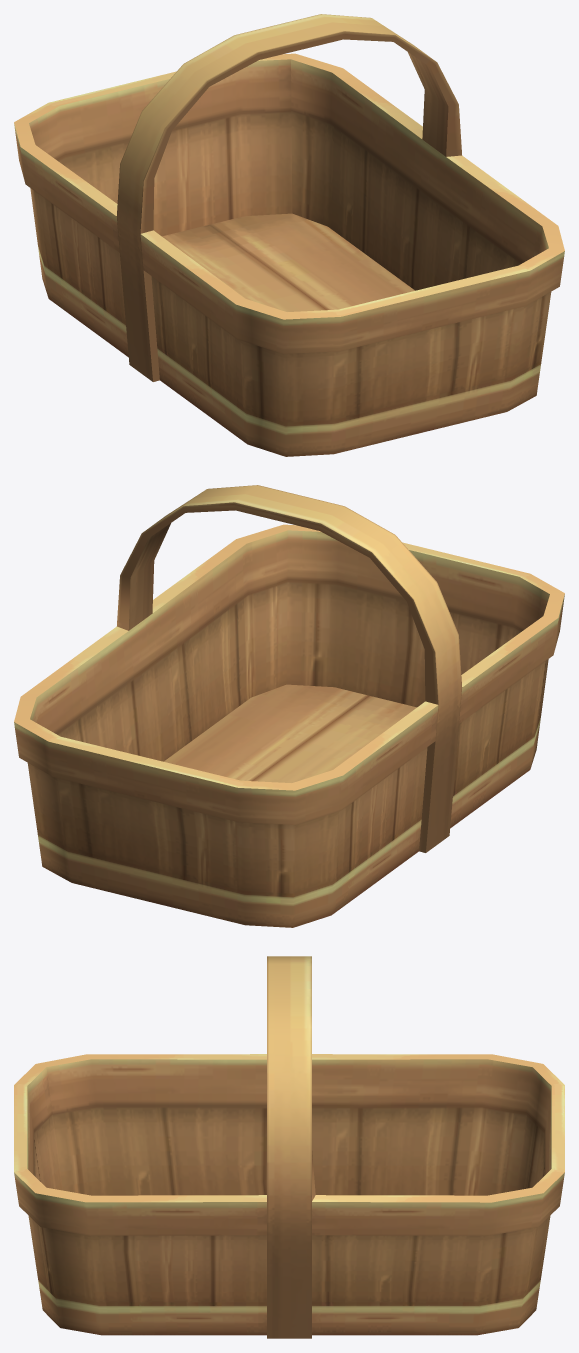
The model's file is Basket.fbx.
The picture shows the model from 3 angles, top to bottom: view 1: azimuth 30°, elevation 25°; view 2: azimuth 150°, elevation 25°; view 3: azimuth 270°, elevation 25°; orthographic projection. The views are drawn at different scales.
Parts seen in each view (by area): view 1: Cardboard_Basket; view 2: Cardboard_Basket; view 3: Cardboard_Basket.
Part boxes in pixels (<box>): Cardboard_Basket: <box>14,14,564,456</box>; Cardboard_Basket: <box>14,485,564,927</box>; Cardboard_Basket: <box>14,956,564,1338</box>.
Size of the model in its own units: 381 by 343 by 598.
